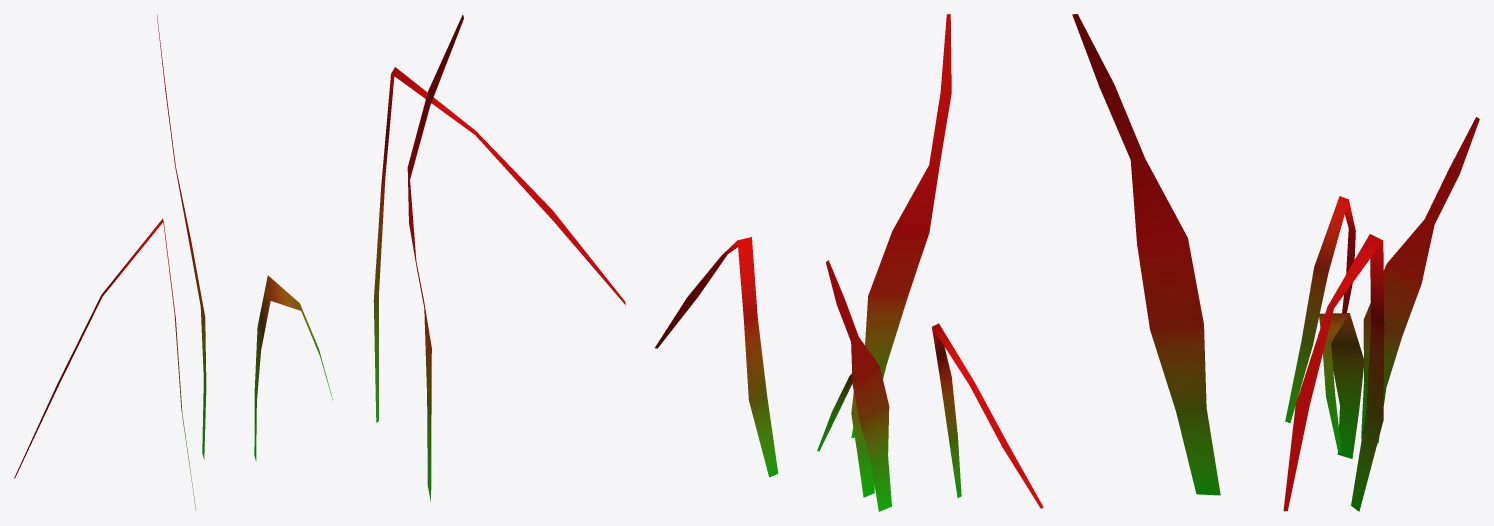
The model's file is White Everlasting_LOD4_Var10_ucvobbbia.fbx.
3 renders of one model, left to right at view 1: azimuth 30°, elevation 25°; view 2: azimuth 150°, elevation 25°; view 3: azimuth 270°, elevation 25°, orthographic. The views are drawn at different scales.
Visible parts, largest first — view 1: _b82b_Var10_LOD4; view 2: _b82b_Var10_LOD4; view 3: _b82b_Var10_LOD4.
Part boxes in pixels (left/top/right/bottom): _b82b_Var10_LOD4: left=14, top=14, right=625, bottom=510; _b82b_Var10_LOD4: left=655, top=14, right=1043, bottom=511; _b82b_Var10_LOD4: left=1072, top=14, right=1479, bottom=511.
Size of the model in its own units: 30.53 by 27.9 by 22.05.
